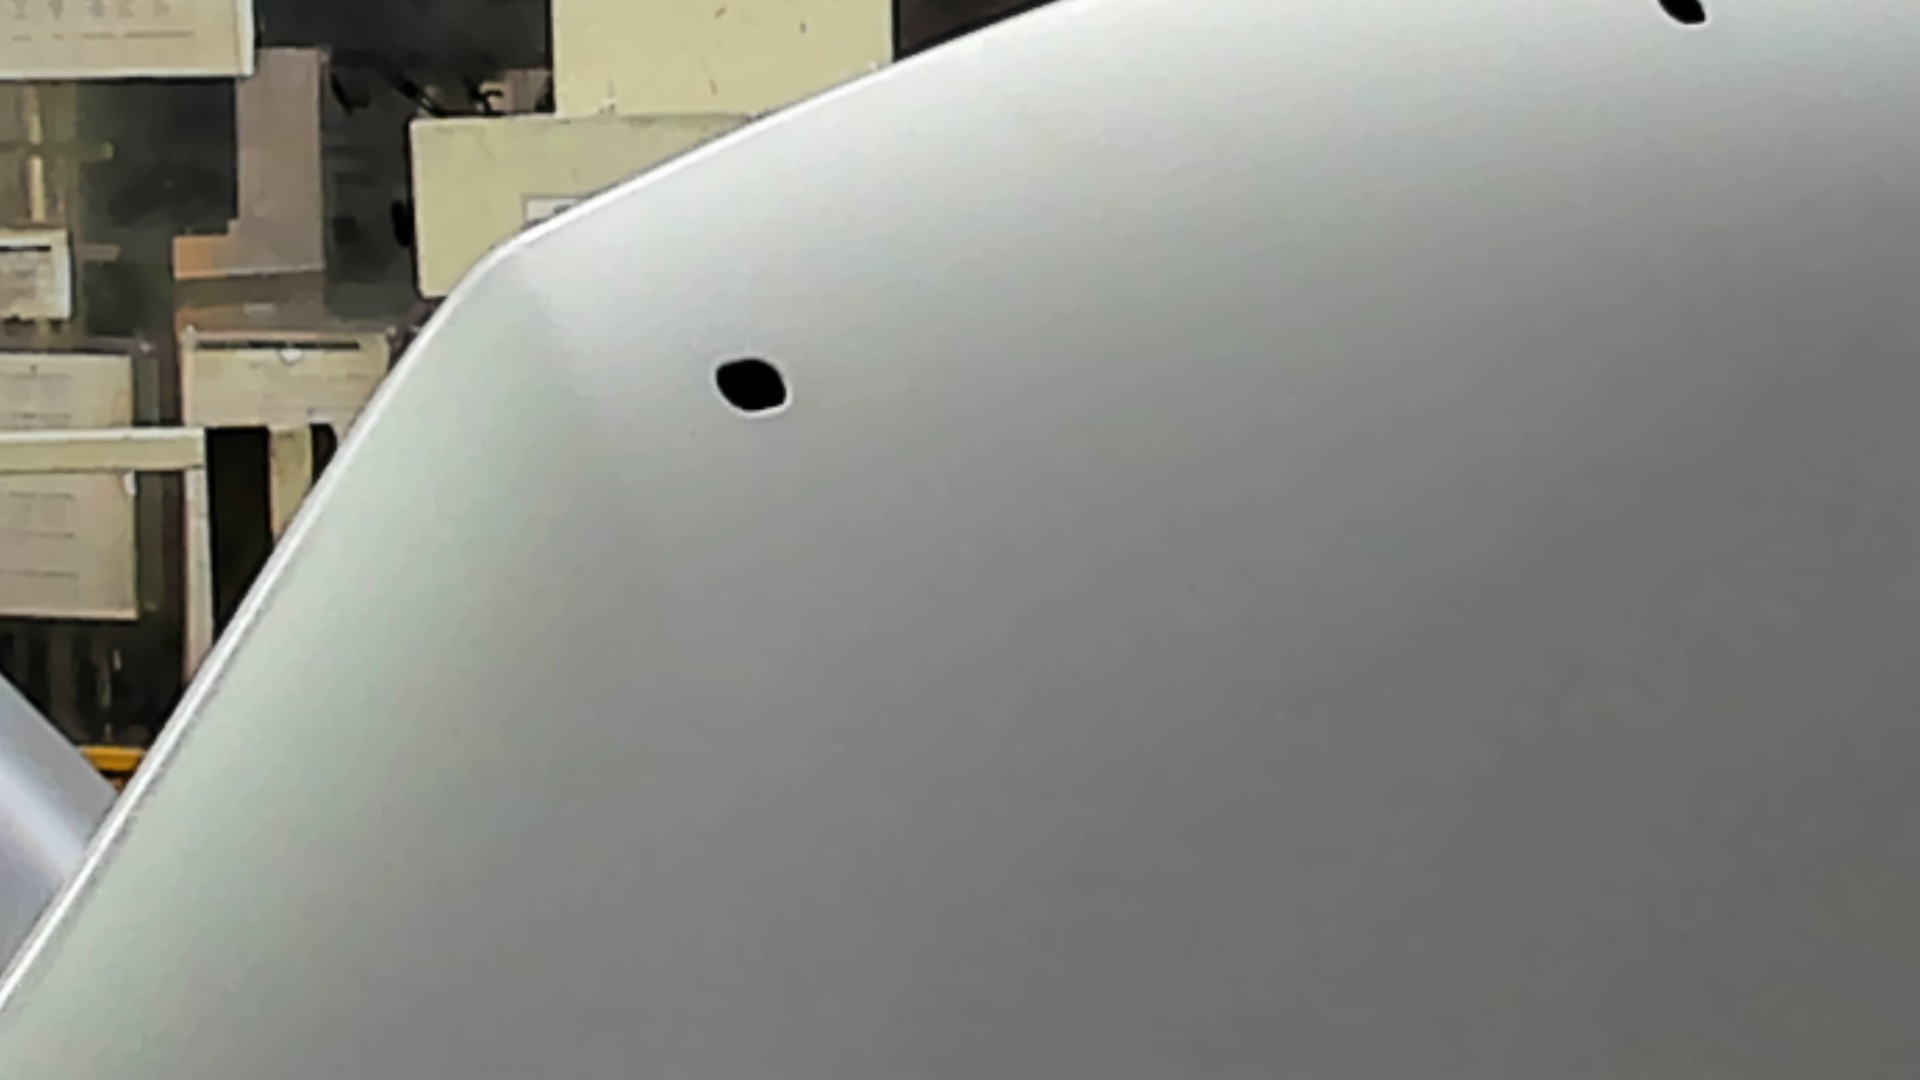amorfo: (705, 347, 798, 418), (1654, 1, 1716, 29)
